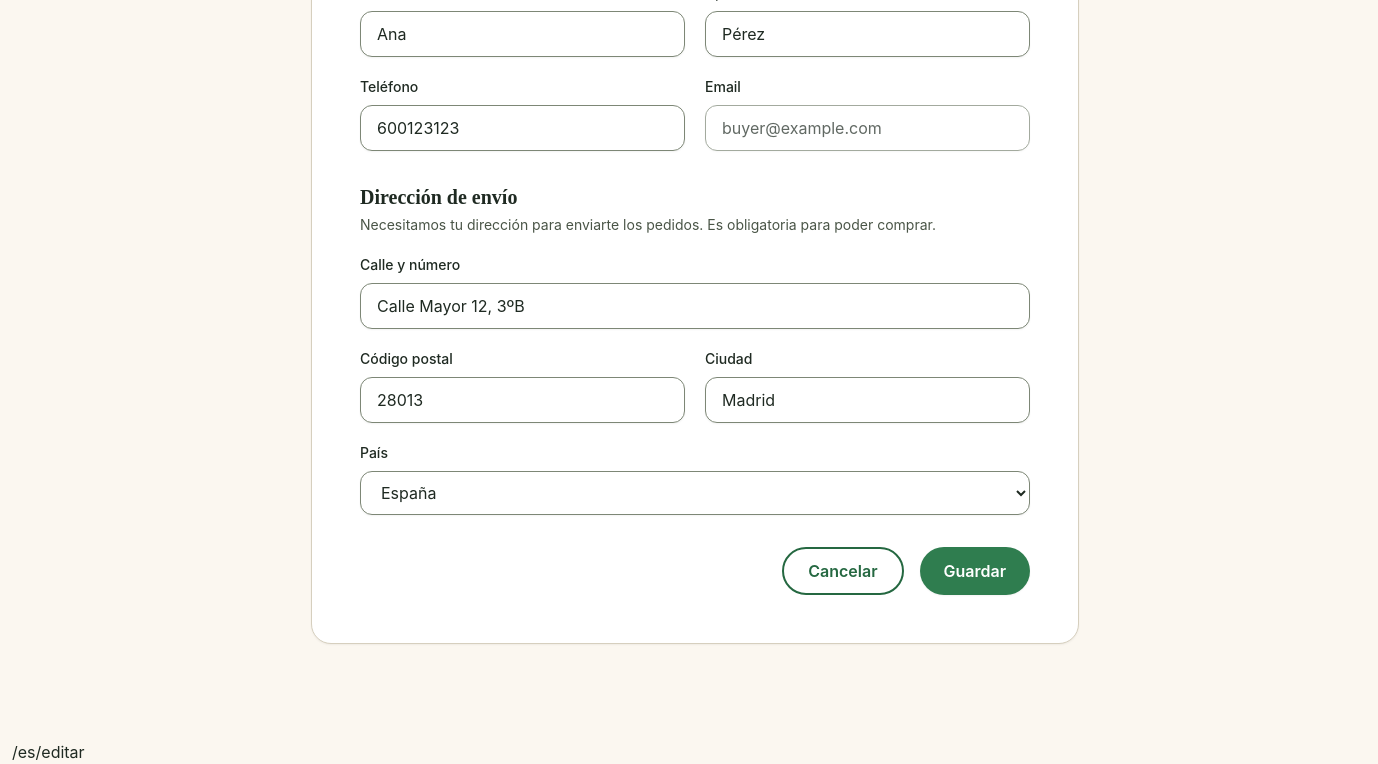
Test case: EditProfileScreen › returns to the cart after saving when the shopper came from it
(page scrolled)
Click the button "Guardar" at x=975, y=571, box left=920, top=547, right=1030, bottom=595
(page scrolled)
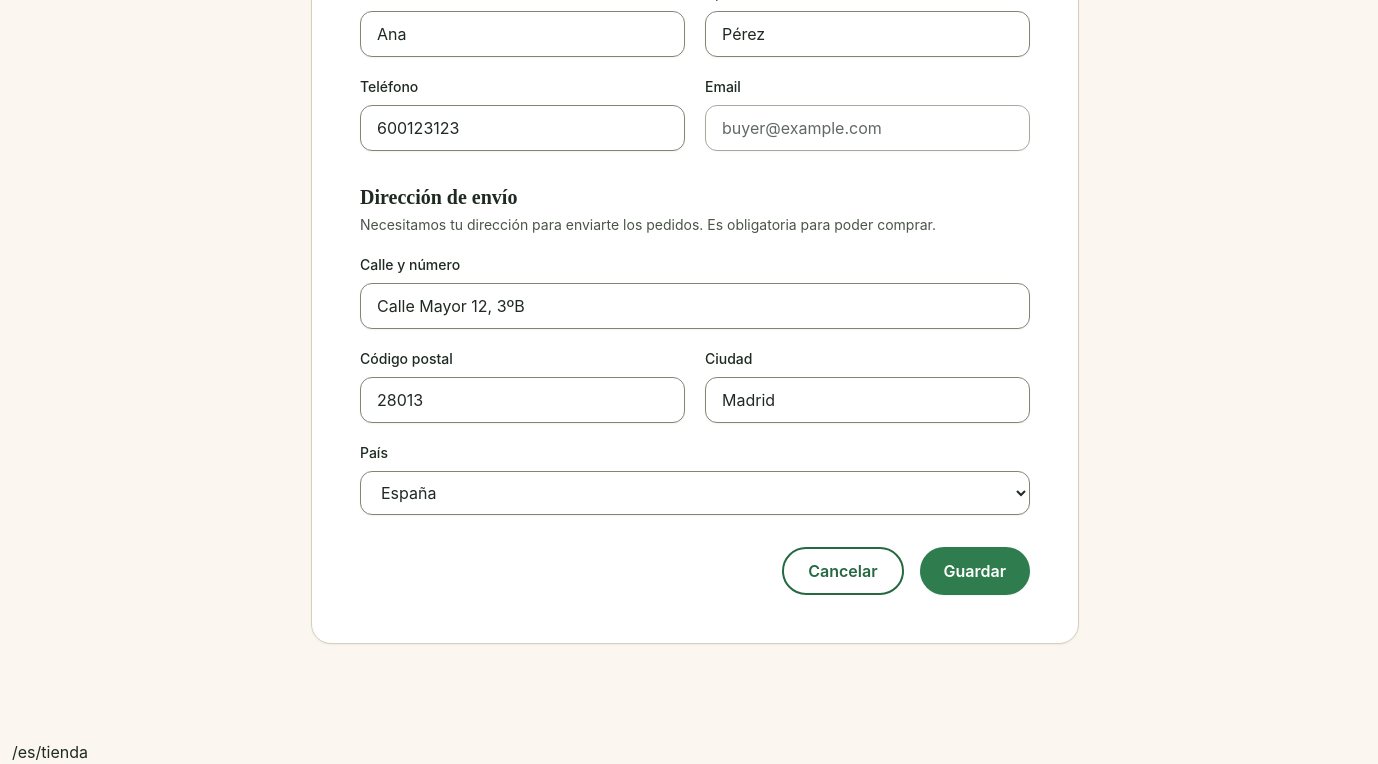
Expected: the text "/es/tienda" is shown, left=12, top=742, right=88, bottom=762
